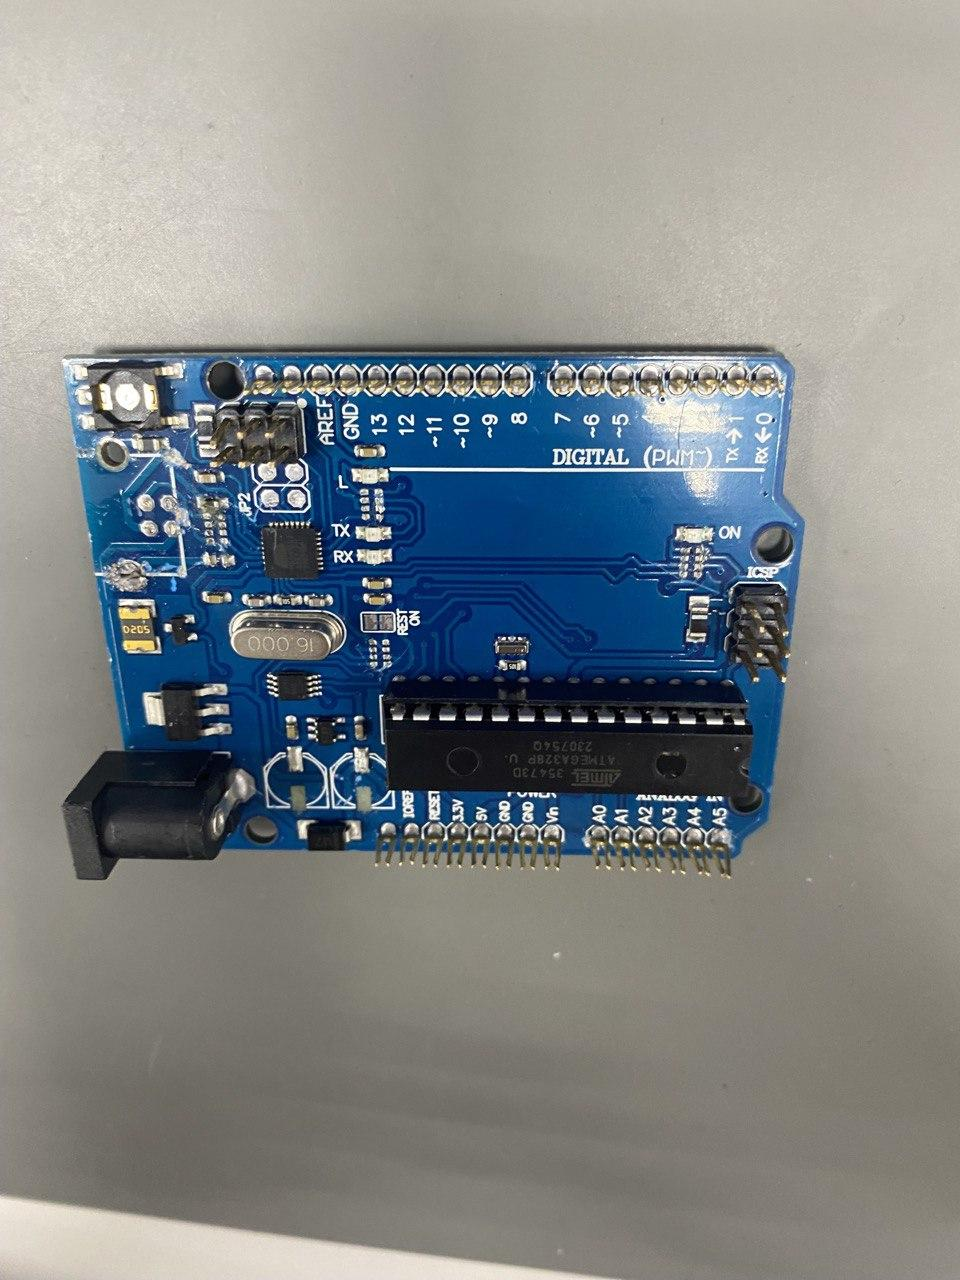ATmega328 chip: (384, 674, 753, 801)
Arduino board: (62, 352, 805, 880)
